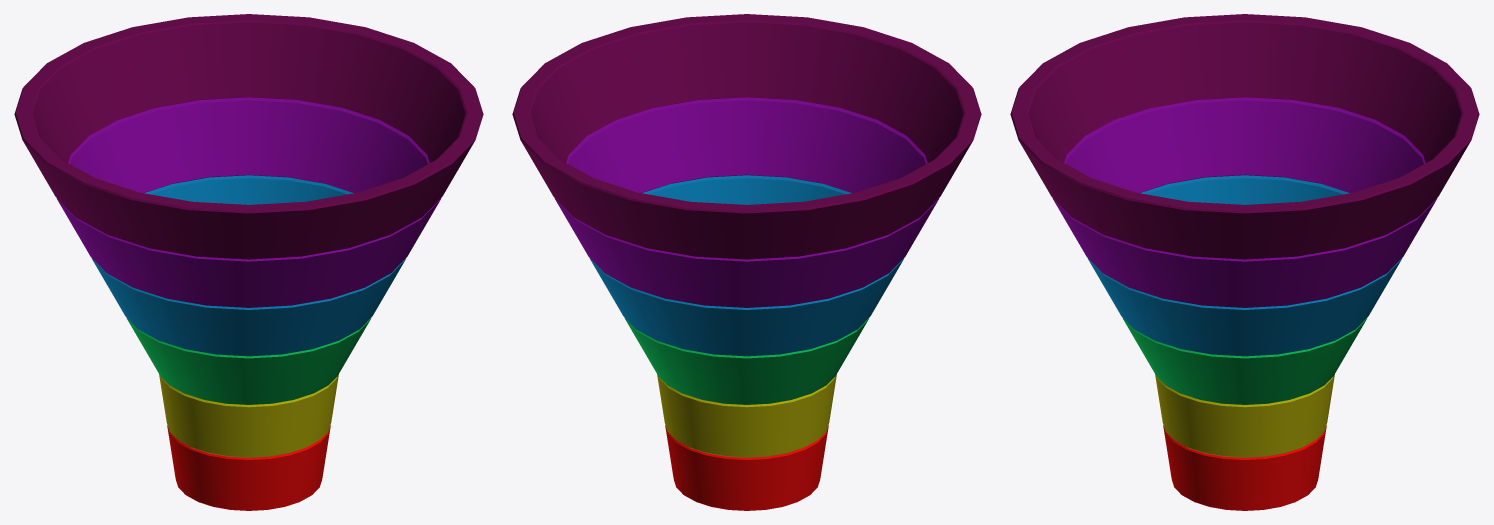
File: Funnel_Full.fbx
The picture shows the model from 3 angles, left to right: view 1: azimuth 30°, elevation 25°; view 2: azimuth 150°, elevation 25°; view 3: azimuth 270°, elevation 25°; orthographic projection.
Parts seen in each view (by area): view 1: Funnel_Full_GEO; view 2: Funnel_Full_GEO; view 3: Funnel_Full_GEO.
Part boxes in pixels (x1=…): Funnel_Full_GEO: x1=14, y1=14, x2=483, y2=510; Funnel_Full_GEO: x1=512, y1=14, x2=981, y2=510; Funnel_Full_GEO: x1=1010, y1=14, x2=1479, y2=510.
Size of the model in its own units: 4.62 by 4 by 4.62.
